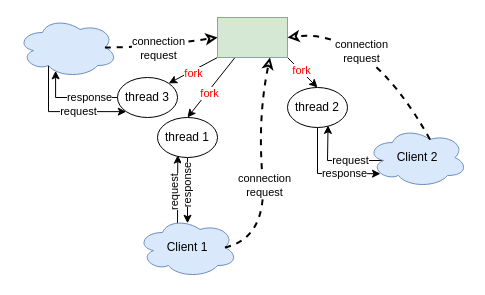
This 485x295 diagram has some shape labels left out. The shapes that lost their labels are listed below. From the top down, each one's centre as x and y in pixels, then its label:
the point at 67,47: Client 3
the point at 252,37: SERVER
